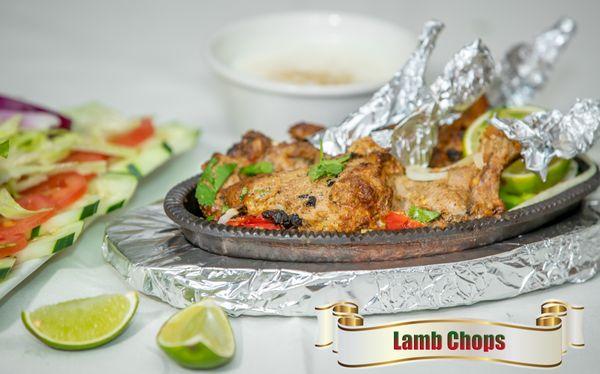salad: (310, 17, 446, 157)
sushi: (203, 10, 419, 141)
taco: (21, 291, 139, 351)
